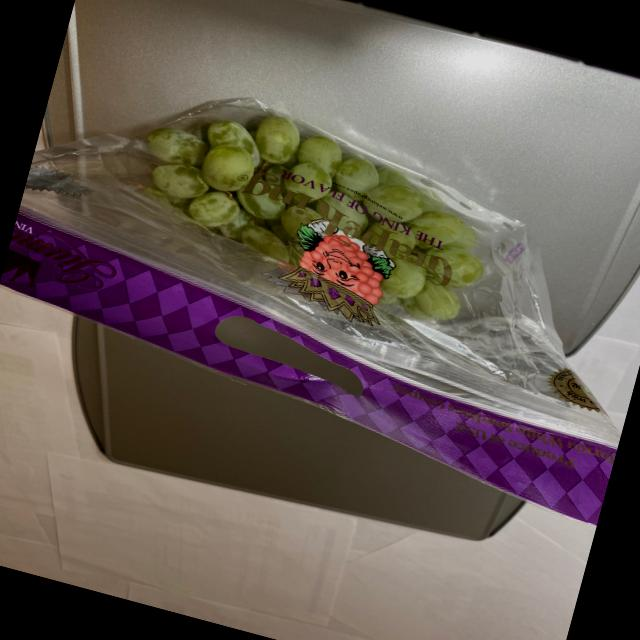grapes: (102, 78, 552, 379)
